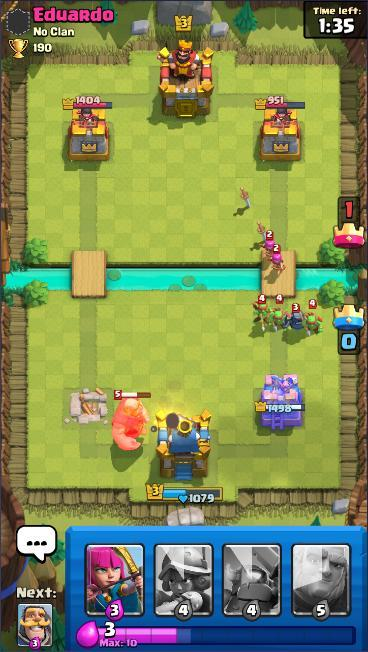enemy_archer: (259, 229, 281, 261), (269, 242, 289, 275)
enemy_giant: (107, 387, 155, 453)
enemy_mini_pekka: (279, 302, 310, 333)
enemy_spear_goblin: (301, 298, 326, 338), (266, 293, 290, 333), (251, 292, 273, 327)
